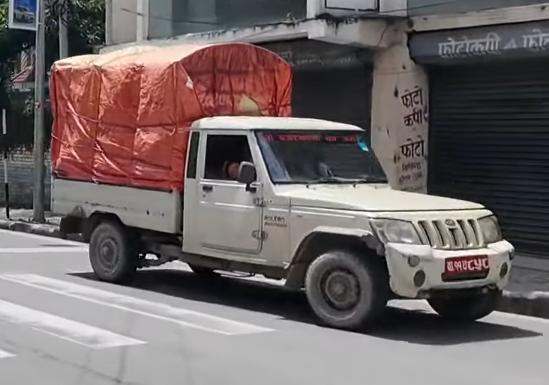transport_vehicle: (36, 33, 513, 332)
